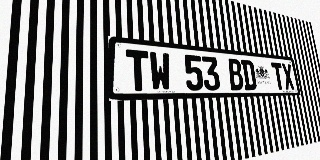3: (201, 56, 220, 90)
5: (184, 54, 204, 91)
B: (227, 58, 244, 90)
D: (241, 59, 257, 90)
T: (125, 49, 150, 91), (271, 62, 285, 90)
W: (149, 51, 172, 91)
X: (281, 63, 295, 90)
